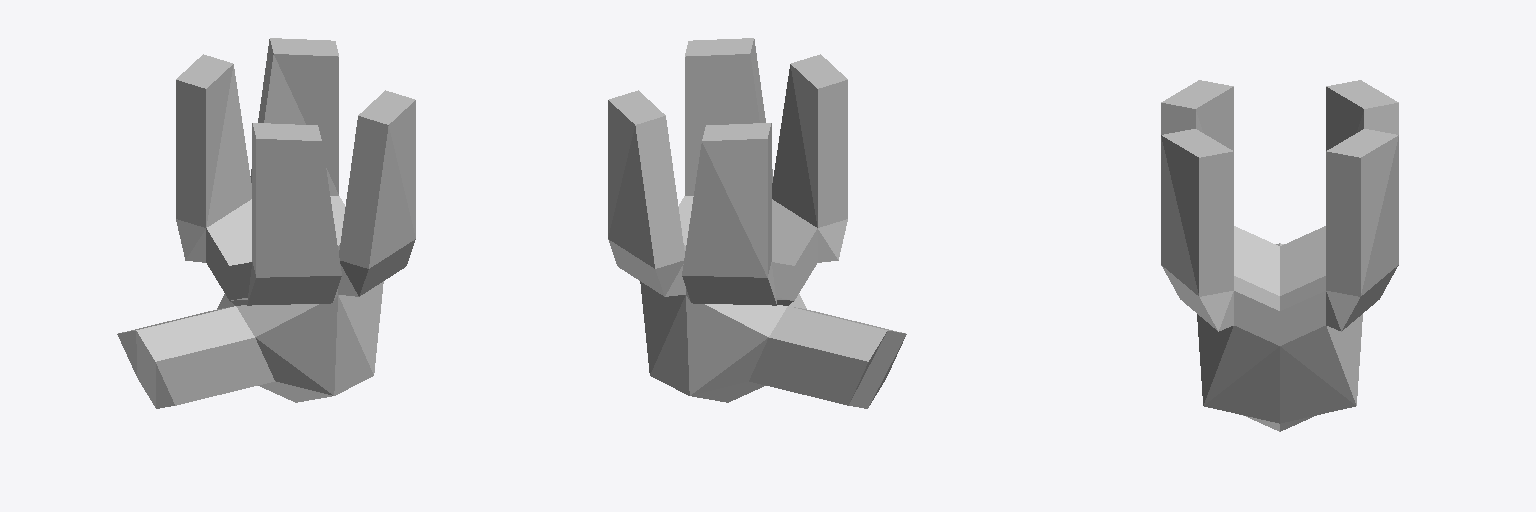
File: claw.obj
3 views of the same model, side by side, from view 1: azimuth 30°, elevation 25°; view 2: azimuth 150°, elevation 25°; view 3: azimuth 270°, elevation 25° (orthographic).
Visible parts, largest first — view 1: CLAW_mesh; view 2: CLAW_mesh; view 3: CLAW_mesh.
Part boxes in pixels (left/top/right/bottom): CLAW_mesh: left=117, top=38, right=415, bottom=408; CLAW_mesh: left=608, top=38, right=906, bottom=408; CLAW_mesh: left=1161, top=80, right=1398, bottom=431.
Size of the model in its own units: 0.72 by 0.9 by 0.62.